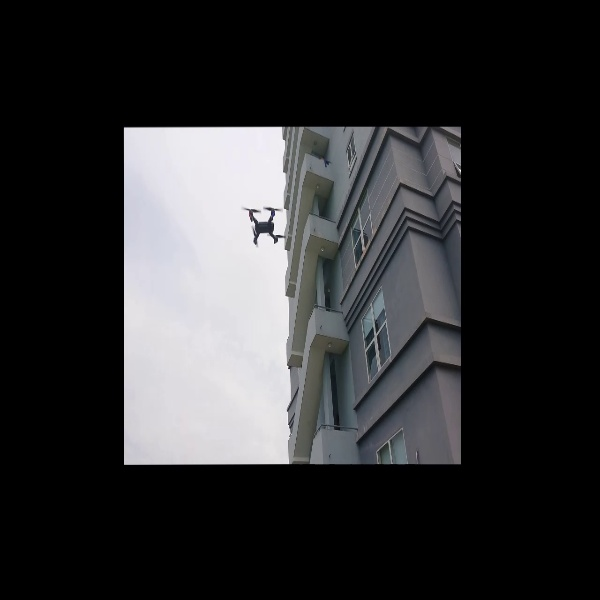drone: (237, 198, 288, 252)
